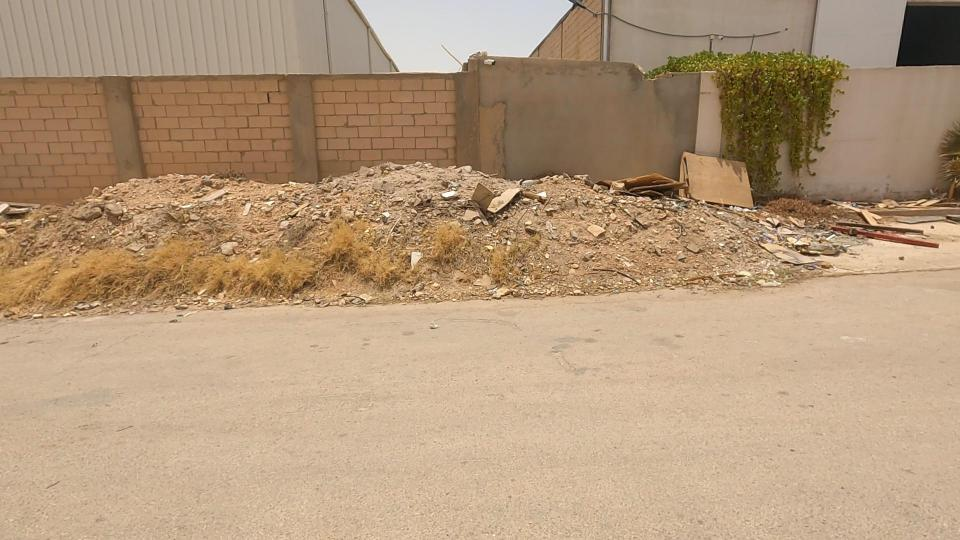GARBAGE: (544, 90, 773, 263), (764, 145, 960, 295), (369, 152, 577, 256)
